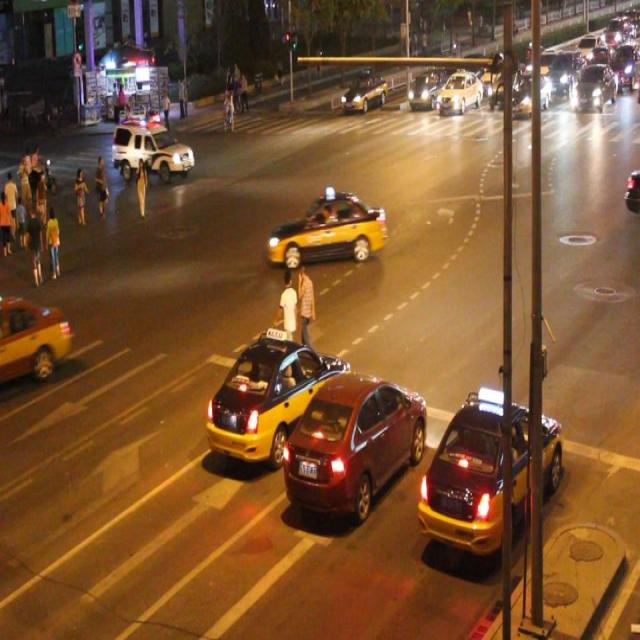car: (419, 387, 562, 555), (286, 374, 424, 518), (208, 327, 350, 462), (268, 189, 385, 267), (1, 293, 69, 383), (113, 116, 193, 184), (435, 69, 480, 112), (343, 72, 384, 113), (407, 68, 444, 110)
